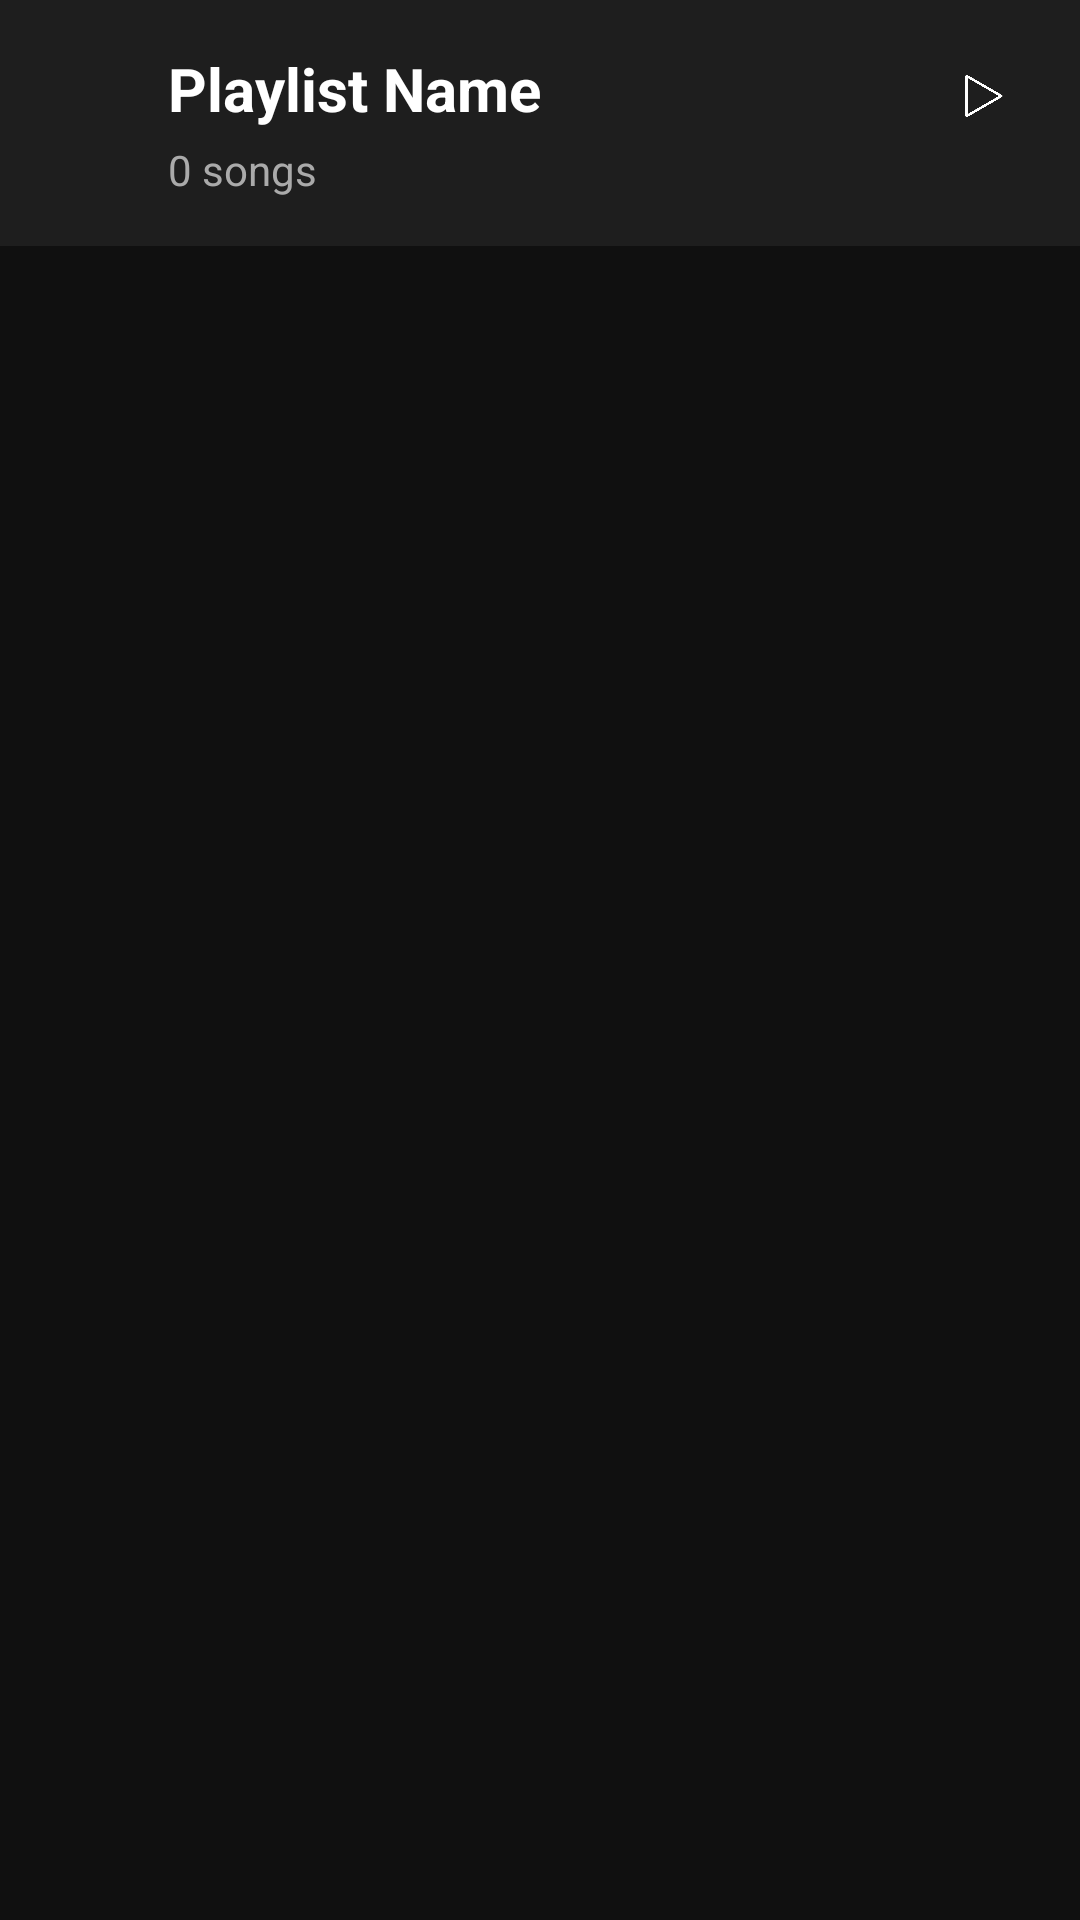

Point at icon controls on the screen. Image size 1080 × 1920, points as (x=x, y=y).
play: (x=984, y=96)
